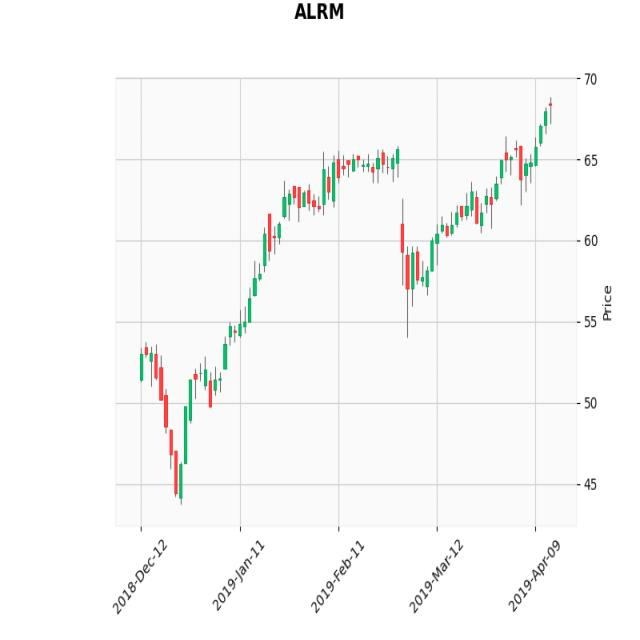Inverse-Head-Shoulders: (136, 336, 228, 503)
